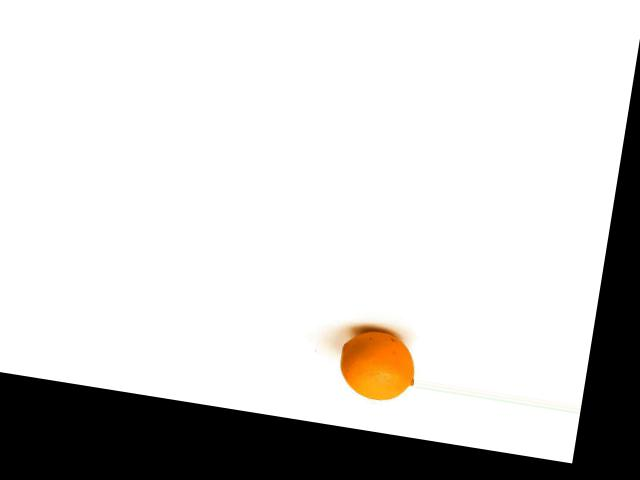lemon: (325, 314, 423, 406)
